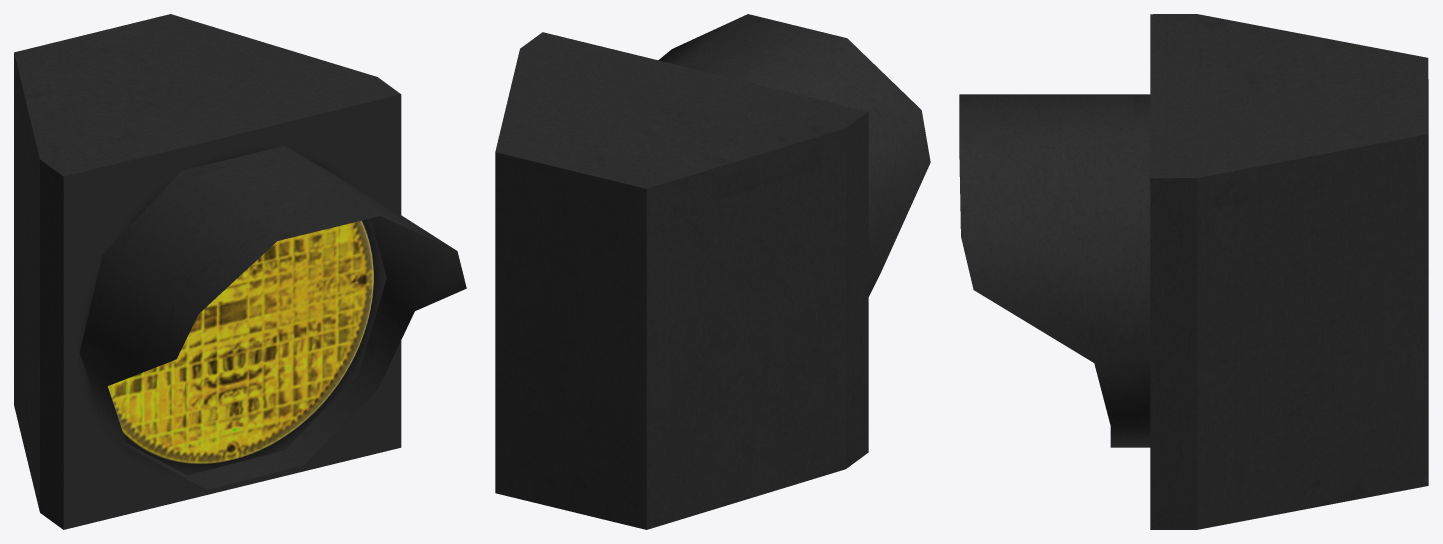
File: Traffic light_Yellow_.FBX
3 renders of one model, left to right at view 1: azimuth 30°, elevation 25°; view 2: azimuth 150°, elevation 25°; view 3: azimuth 270°, elevation 25°, orthographic. The views are drawn at different scales.
Parts seen in each view (by area): view 1: Traffic light_Yellow_; view 2: Traffic light_Yellow_; view 3: Traffic light_Yellow_.
Boxes of the visible parts, box(x1,y1,x2,y2) form: Traffic light_Yellow_: box(14, 14, 466, 529); Traffic light_Yellow_: box(495, 14, 930, 529); Traffic light_Yellow_: box(959, 14, 1428, 529).
Size of the model in its own units: 0.2507 by 0.2507 by 0.3032.
